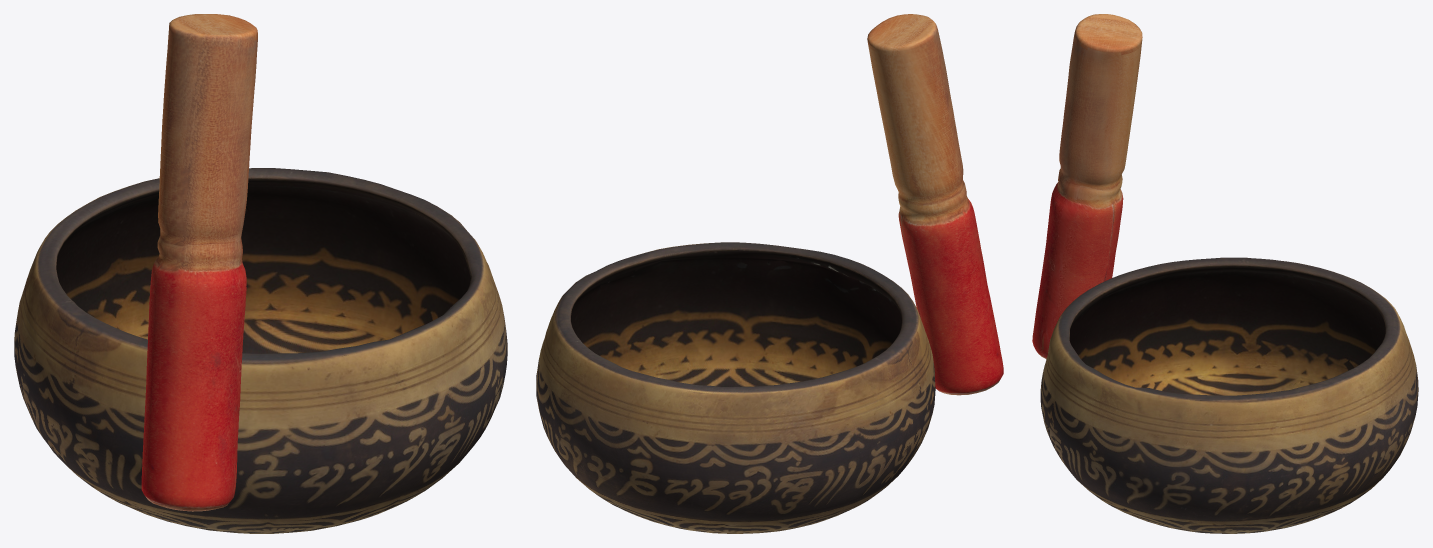
File: singing_nepali_bowl.glb
3 renders of one model, left to right at view 1: azimuth 30°, elevation 25°; view 2: azimuth 150°, elevation 25°; view 3: azimuth 270°, elevation 25°, orthographic. The views are drawn at different scales.
Visible parts, largest first — view 1: LP, LP.001; view 2: LP, LP.001; view 3: LP, LP.001.
Boxes of the visible parts, x1,y1,x2,y2 form: LP: (14, 168, 507, 533); LP.001: (141, 14, 257, 511); LP: (536, 242, 935, 533); LP.001: (867, 14, 1003, 395); LP: (1040, 257, 1418, 533); LP.001: (1032, 14, 1142, 359).
Size of the model in its own units: 110 by 135 by 111.
2 materials, 2 textured.
